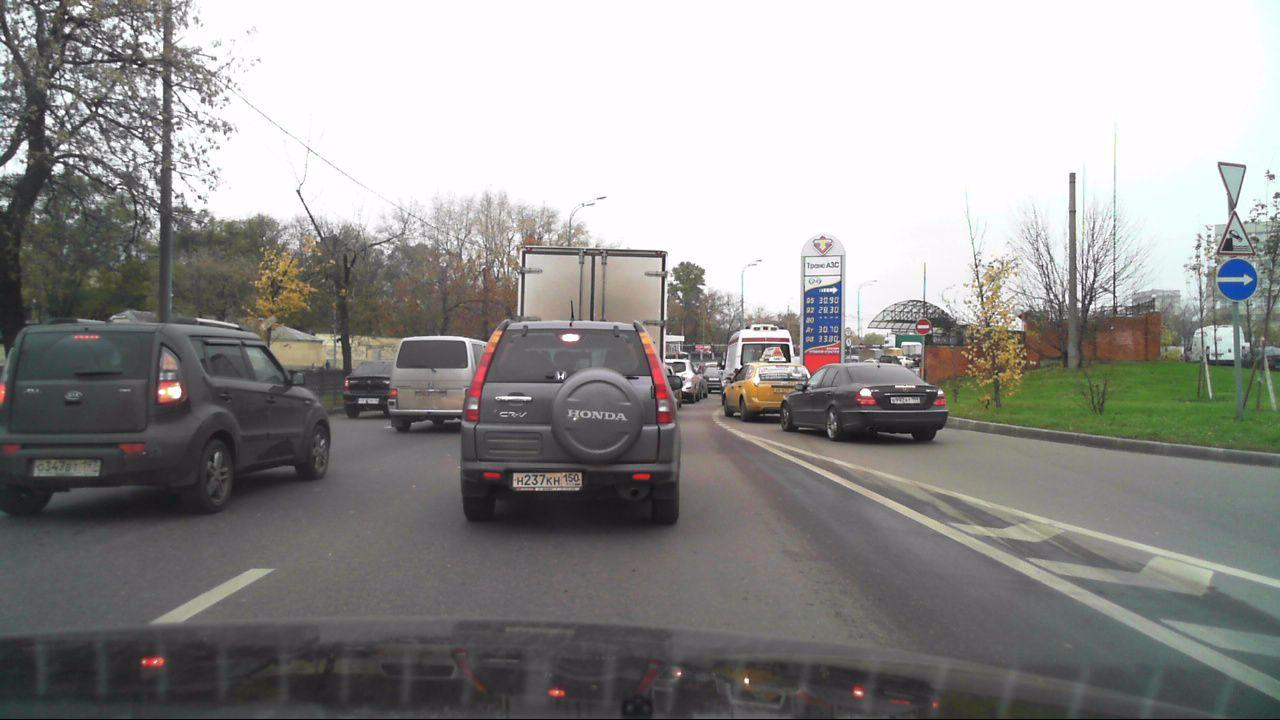1_10: (1216, 212, 1257, 255)
2_4: (1216, 161, 1246, 209)
3_1: (915, 318, 931, 334)
4_2_1: (1214, 257, 1259, 301)
